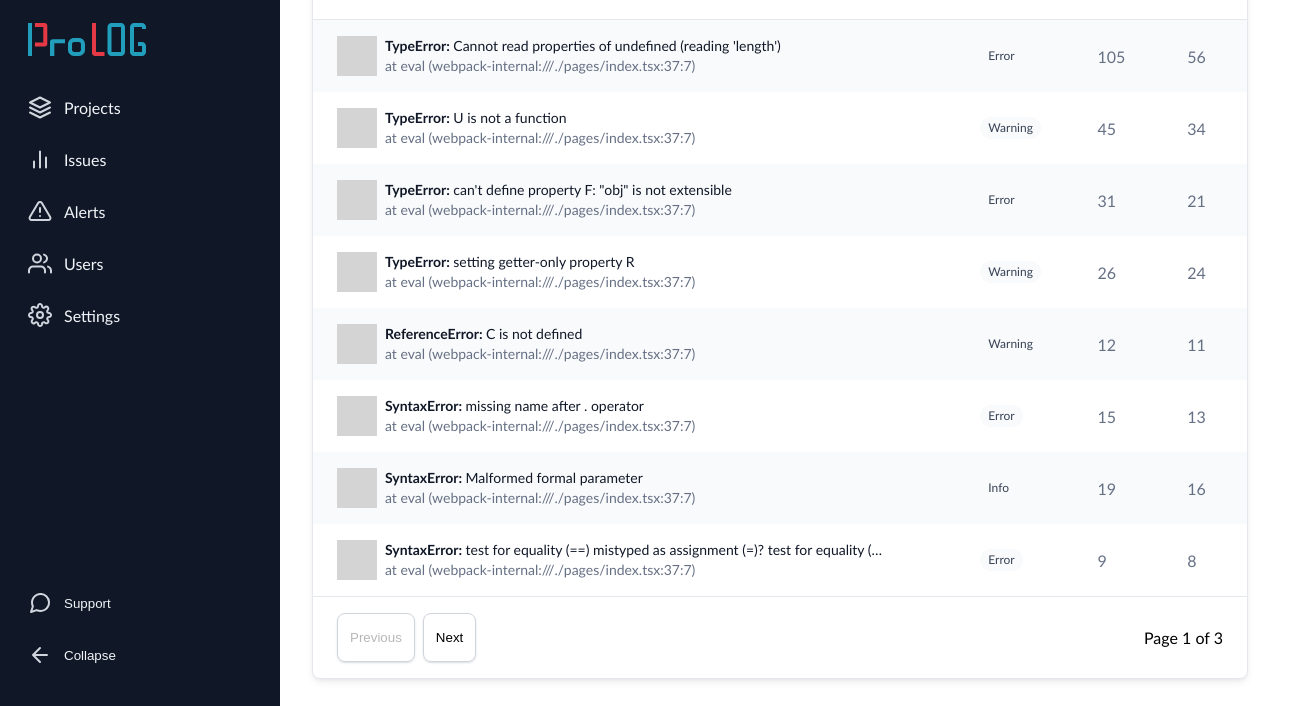
Test: Issue list › Desktop mode › paginates the data
(page scrolled)
Check: the text "Page 1 of 3" is shown, box [1144, 628, 1223, 647]
# test navigation to second page
Click the button "Next" at (450, 638), box [423, 613, 476, 662]
(page scrolled)
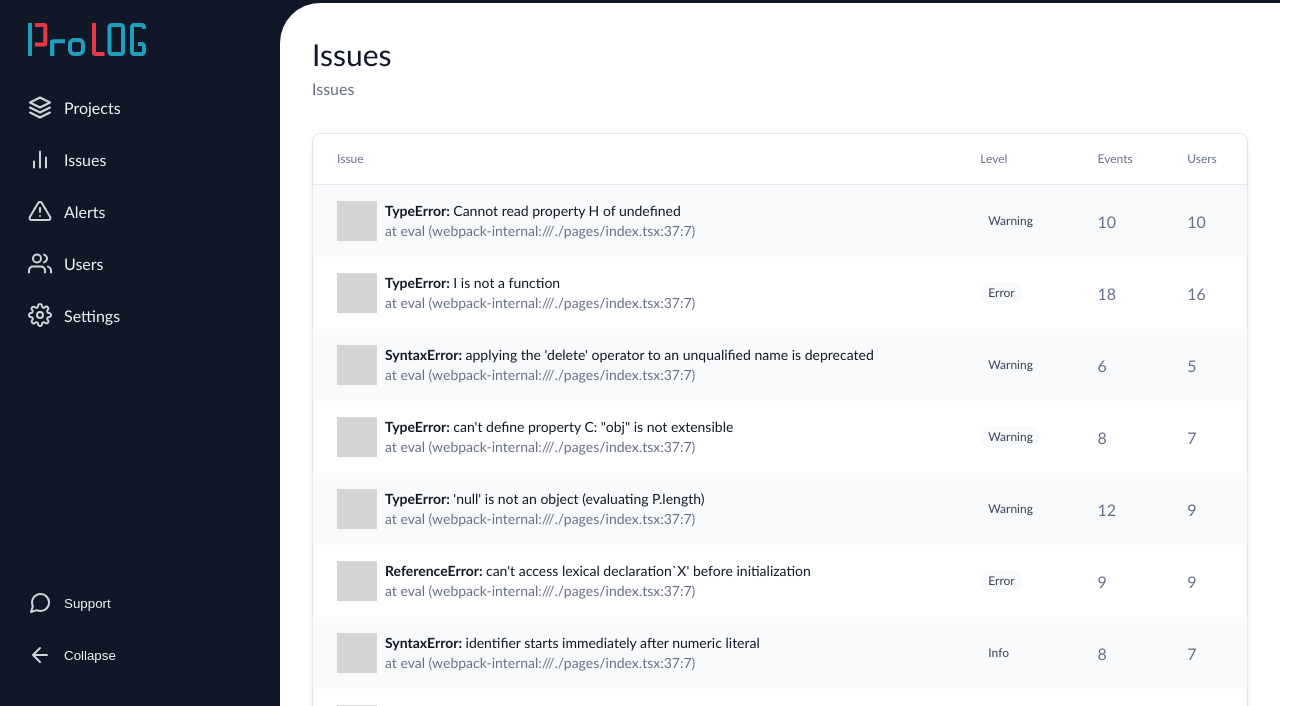
Check: the text "Cannot read property H of undefined" is shown, box [453, 202, 680, 219]
# test navigation to third and last page
Click the button "Next"
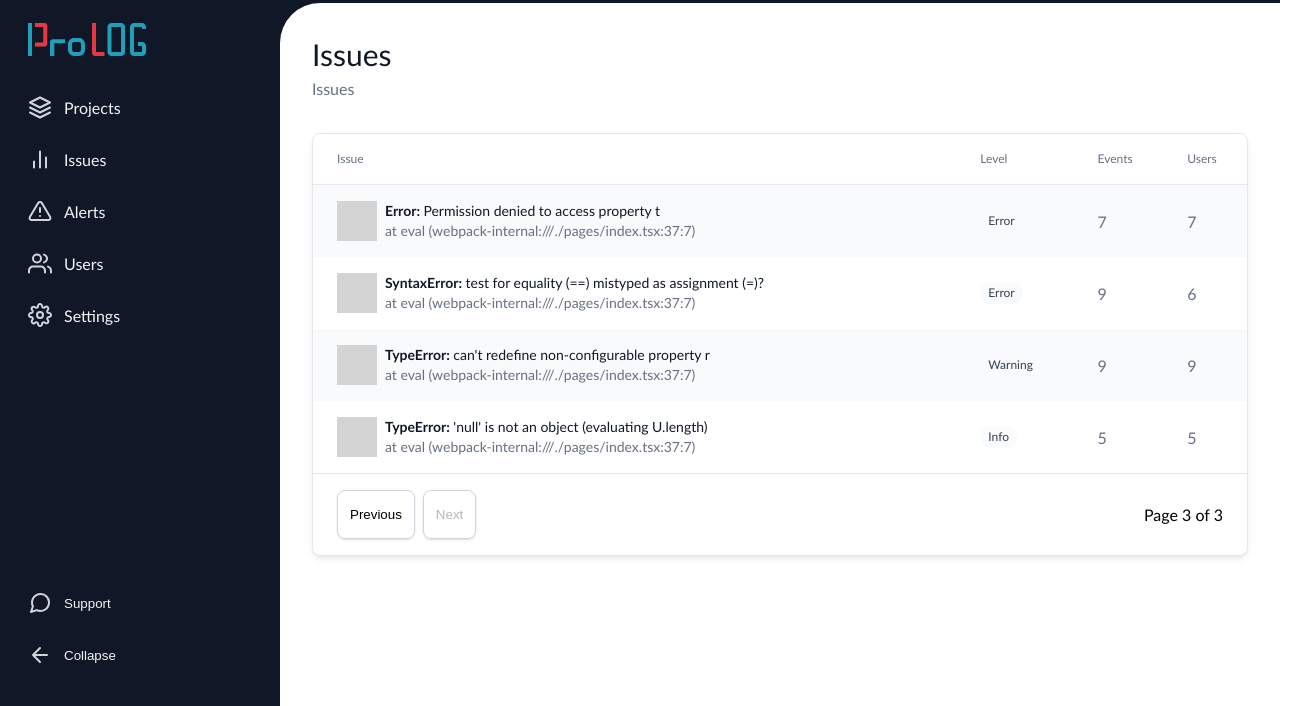
Check: the text "Page 3 of 3" is shown, box [1144, 505, 1223, 524]
Check: the text "Permission denied to access property t" is shown, box [423, 202, 660, 219]
# test navigation back to second page
Click the button "Previous" at (376, 515), box [337, 490, 415, 539]
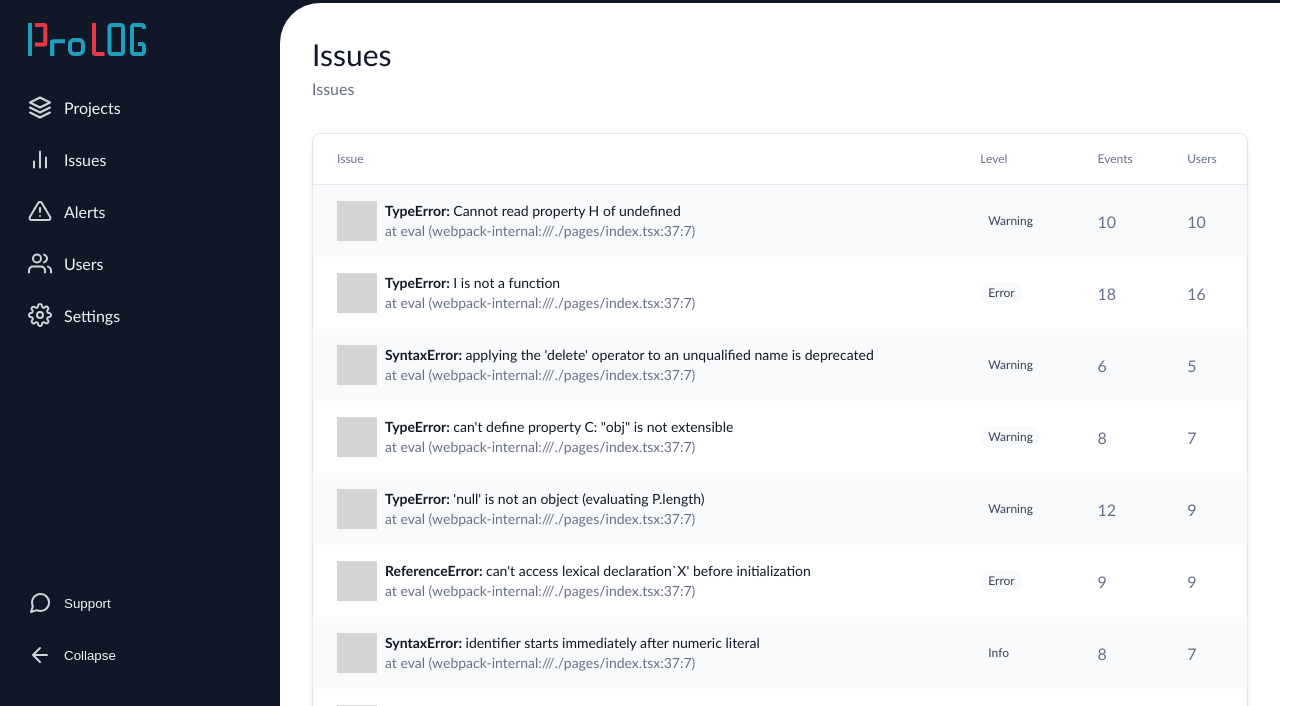
Check: the text "Cannot read property H of undefined" is shown, box [453, 202, 680, 219]
